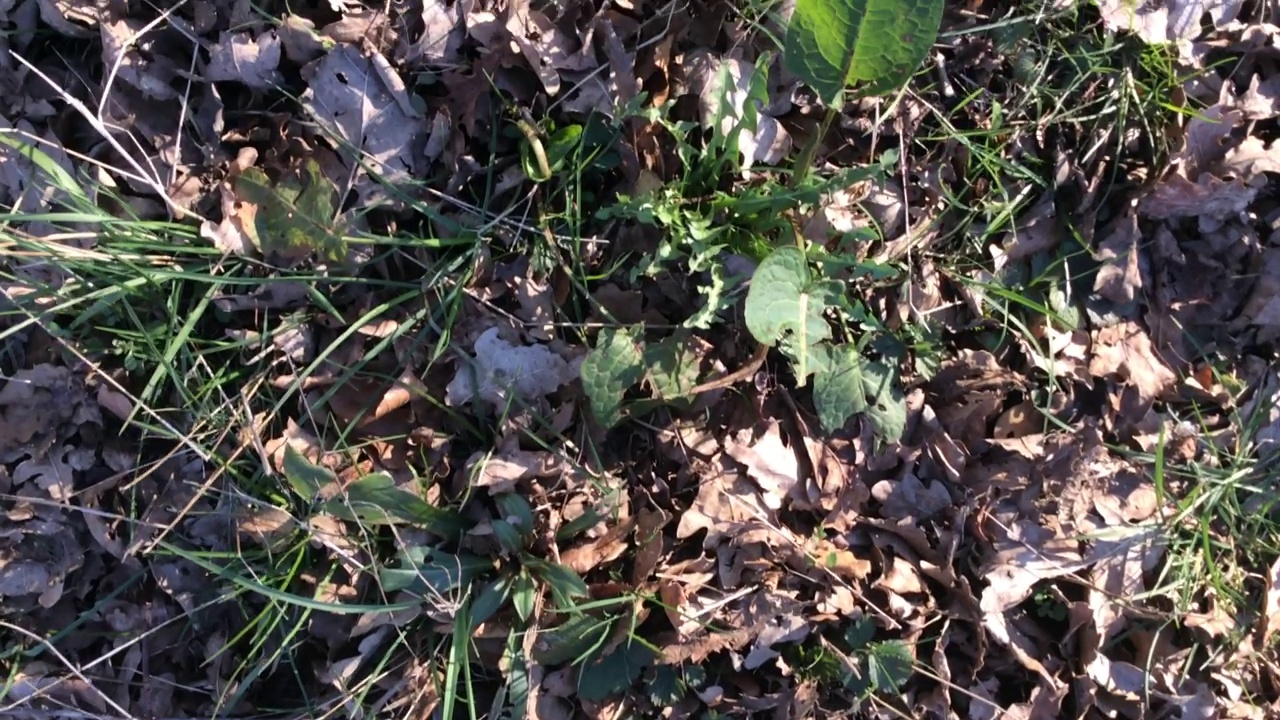rumex: (582, 1, 945, 439)
